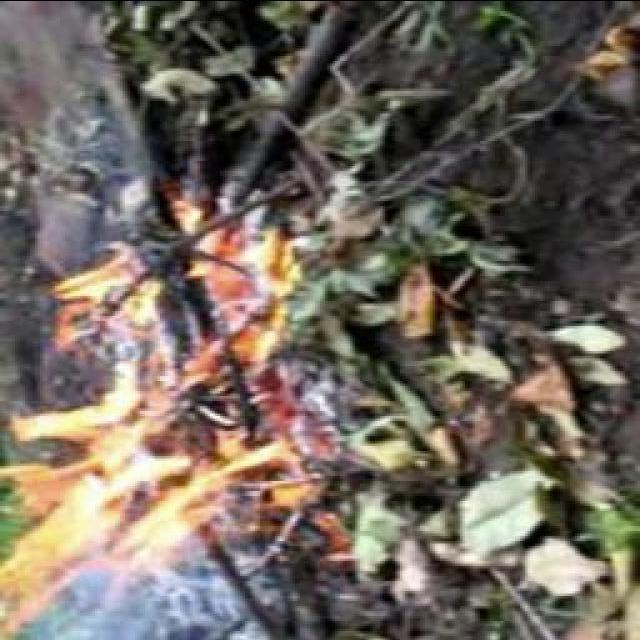Fire: (9, 230, 298, 592)
